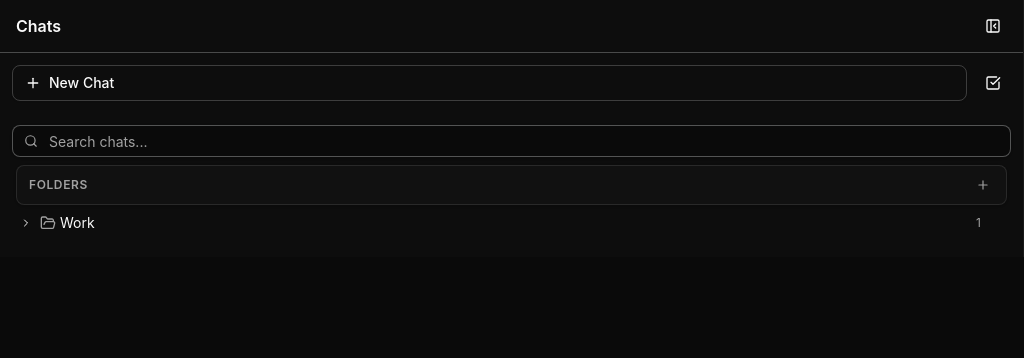
SessionList › Back to All › should clear folder filter when Back to all clicked
Note: Click folder to filter
Click the text "Work" at [77, 222], box [60,214,95,231]
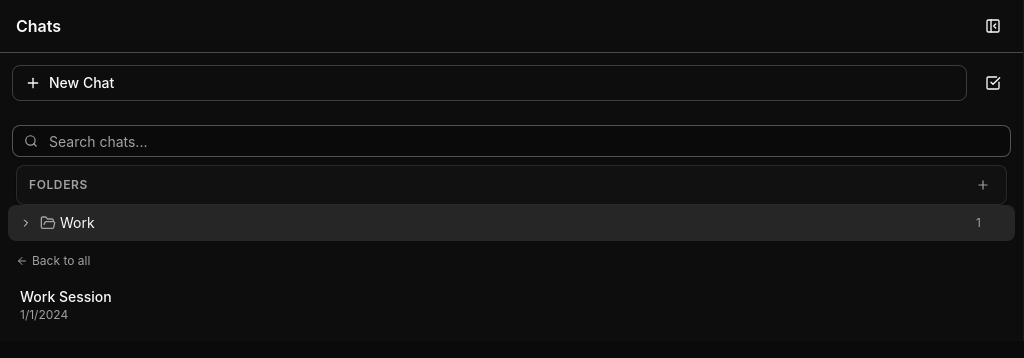
Note: Should show Back to all button
Click the button "Back to all" at [53, 261], box [8,249,98,273]
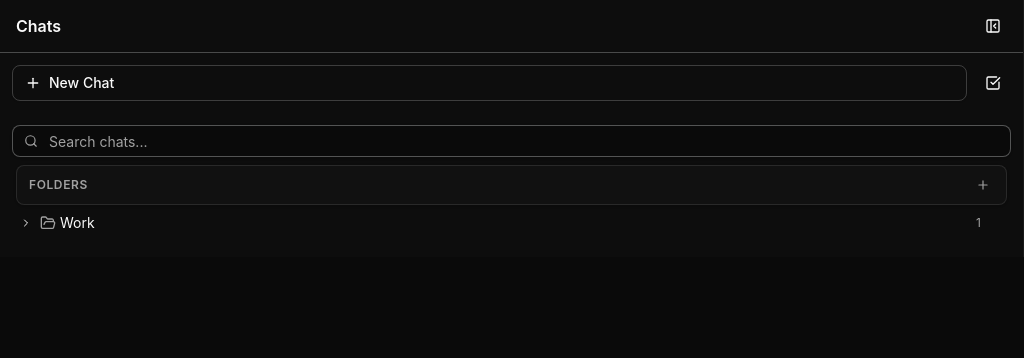
Result: the button "Back to all" is gone
